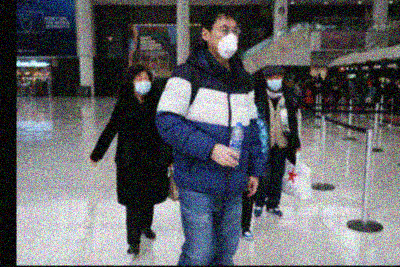with_mask: (210, 22, 241, 60), (133, 71, 152, 97), (267, 73, 284, 92)
